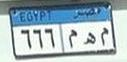6: (18, 27, 32, 49), (43, 27, 56, 48), (32, 27, 43, 49)
haa: (82, 31, 97, 47)
meem: (66, 28, 78, 49), (99, 26, 110, 46)
